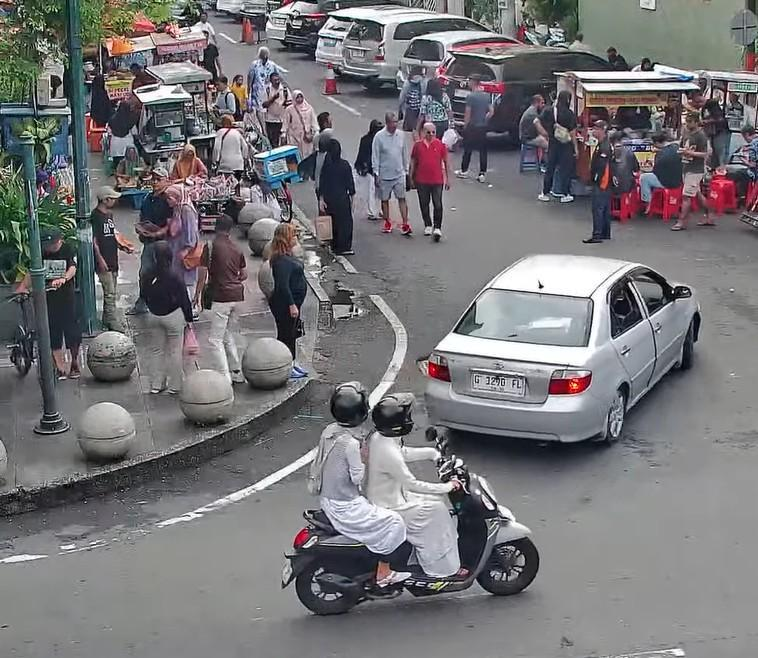Helmet: (372, 393, 414, 436), (330, 381, 368, 426)
Number Plate: (471, 372, 524, 396), (282, 558, 292, 585), (740, 214, 757, 227), (454, 89, 470, 99), (350, 49, 364, 59), (291, 19, 302, 28), (323, 39, 335, 47), (273, 18, 285, 25)
Rearview Mirror: (673, 285, 691, 298)
